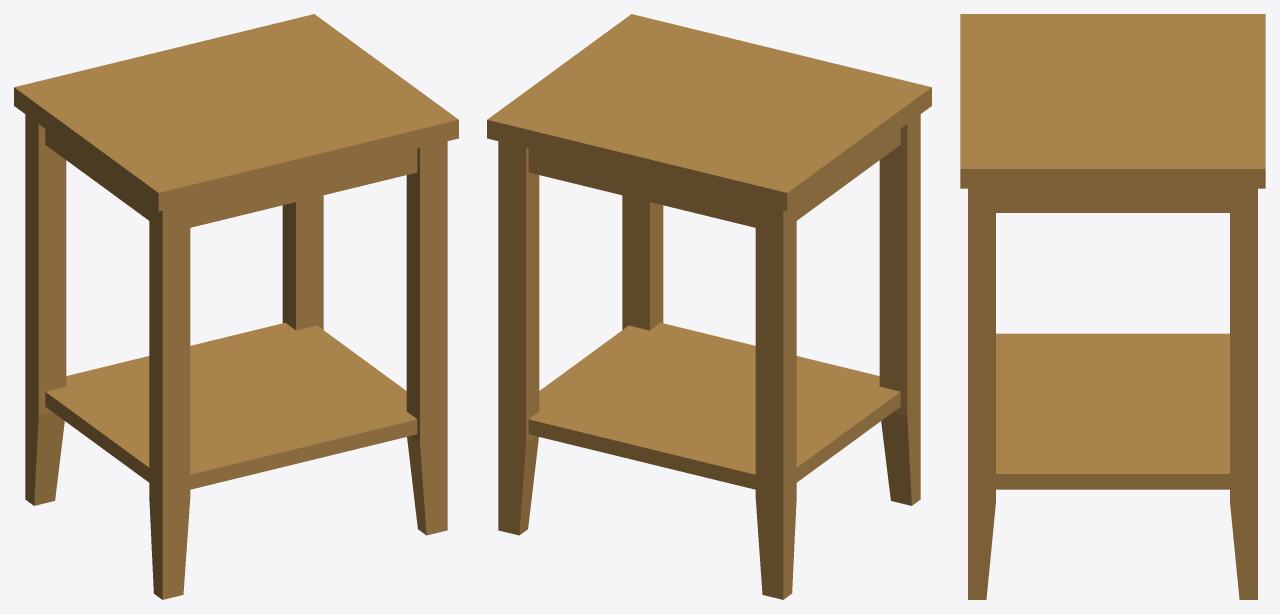
The model's file is 469_サイドテーブル.glb.
The picture shows the model from 3 angles, left to right: view 1: azimuth 30°, elevation 25°; view 2: azimuth 150°, elevation 25°; view 3: azimuth 270°, elevation 25°; orthographic projection. The views are drawn at different scales.
Parts seen in each view (by area): view 1: body; view 2: body; view 3: body.
Boxes of the visible parts, x1,y1,x2,y2 form: body: (14,14,458,599); body: (487,14,931,599); body: (960,14,1265,599).
Size of the model in its own units: 0.42 by 0.55 by 0.35.
